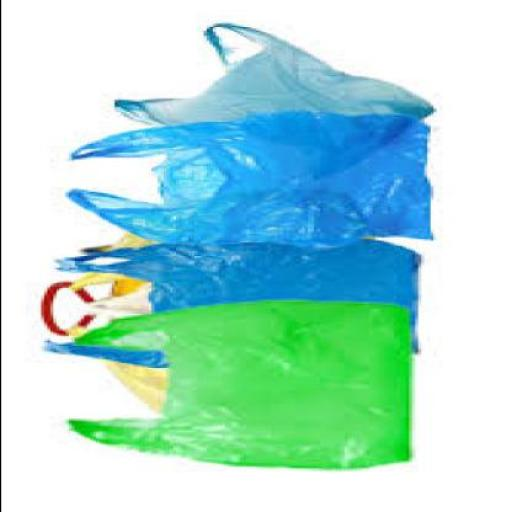plastic: (65, 302, 408, 470), (107, 25, 430, 183), (62, 114, 430, 249), (37, 239, 417, 368), (68, 329, 168, 417), (37, 276, 150, 334)
